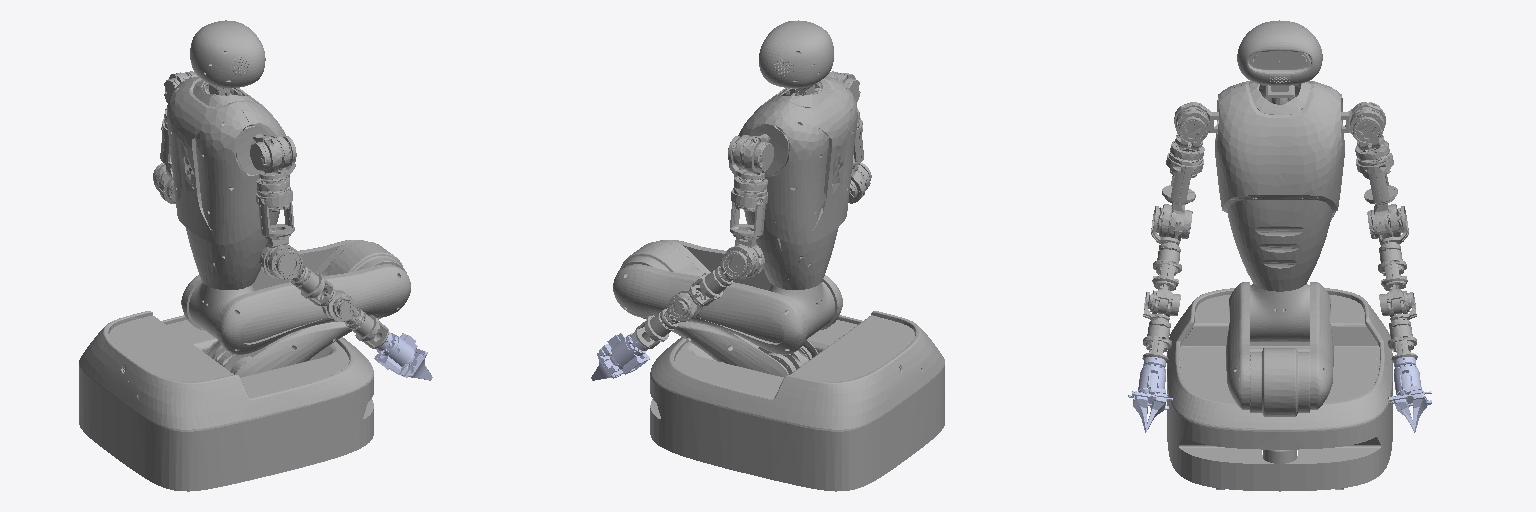
--- Render facts (derived) ---
Views: 3 orthographic renders of the robot side by side, from view 1: azimuth 30°, elevation 25°; view 2: azimuth 150°, elevation 25°; view 3: azimuth 270°, elevation 25°.
Model ymbot_d_description with 34 links and 33 joints (20 revolute, 13 fixed), rooted at base_footprint_link, posed every joint at zero.
Links seen in each view (by area): view 1: base_link, Body_Link4, Body_Link2, Body_Link1, Neck_Link2, Right_Arm_Link3, Right_Arm_Link8, Body_Link3, Right_Arm_Link5, Right_Arm_Link1, Left_Arm_Link3, Right_Arm_Link7; view 2: base_link, Body_Link4, Body_Link2, Body_Link1, Neck_Link2, Left_Arm_Link3, Left_Arm_Link8, Body_Link3, Left_Arm_Link5, Left_Arm_Link1, Right_Arm_Link3, Left_Arm_Link7; view 3: base_link, Body_Link4, Body_Link2, Neck_Link2, Body_Link1, Body_Link3, Left_Arm_Link3, Right_Arm_Link3, Right_Arm_Link5, Left_Arm_Link5, Right_Arm_Link8, Left_Arm_Link8 (+6 smaller).
Link boxes in pixels (x1,y1,x2,y2): base_link: (79,311,373,491); Body_Link4: (167,77,289,289); Body_Link2: (181,240,410,354); Body_Link1: (206,240,406,377); Neck_Link2: (190,20,265,90); Right_Arm_Link3: (256,173,299,279); Right_Arm_Link8: (374,332,432,380); Body_Link3: (189,282,254,338); Right_Arm_Link5: (290,266,354,321); Right_Arm_Link1: (249,133,291,173); Left_Arm_Link3: (154,108,175,203); Right_Arm_Link7: (345,308,388,348); base_link: (650,311,944,491); Body_Link4: (734,76,857,289); Body_Link2: (613,240,842,354); Body_Link1: (617,240,817,376); Neck_Link2: (759,20,833,90); Left_Arm_Link3: (725,173,767,279); Left_Arm_Link8: (591,332,649,380); Body_Link3: (770,282,834,339); Left_Arm_Link5: (669,266,732,321); Left_Arm_Link1: (732,133,774,172); Right_Arm_Link3: (848,108,870,203); Left_Arm_Link7: (635,308,678,348); base_link: (1167,288,1392,491); Body_Link4: (1215,81,1344,291); Body_Link2: (1226,282,1333,409); Neck_Link2: (1237,20,1322,85); Body_Link1: (1250,348,1309,416); Body_Link3: (1250,284,1309,341); Left_Arm_Link3: (1355,141,1403,241); Right_Arm_Link3: (1156,141,1204,240); Right_Arm_Link5: (1148,241,1181,316); Left_Arm_Link5: (1378,241,1411,316); Right_Arm_Link8: (1128,357,1172,432); Left_Arm_Link8: (1388,357,1431,432).
Bounding box of the posed robot: 0.7653 × 0.7153 × 1.07 m (x, y, z).
33 mesh visuals loaded from 33 distinct referenced files (33 binary STL).

robot.urdf — ymbot_d_description:
<?xml version="1.0" encoding="utf-8"?>
<!-- This URDF was automatically created by SolidWorks to URDF Exporter! Originally created by Stephen Brawner ([email redacted]) 
     Commit Version: 1.6.0-4-g7f85cfe  Build Version: 1.6.7995.38578
     For more information, please see http://wiki.ros.org/sw_urdf_exporter -->
<robot
  name="ymbot_d_description">


  <link name="base_footprint_link" />
  <joint name="base_footprint_joint" type="fixed">
    <parent link="base_footprint_link" />
    <child link="base_link" />
    <origin xyz="0 0 0" rpy="0 0 0"/>
  </joint>



  <link
    name="base_link">
    <inertial>
      <origin
        xyz="-0.14091401 0.00600638 0.10951765"
        rpy="0 0 0" />
      <mass
        value="32.79998065" />
      <inertia
        ixx="0.55932667"
        ixy="0.01801602"
        ixz="0.04711075"
        iyy="0.69142971"
        iyz="-0.01485230"
        izz="1.11612558" />
    </inertial>
    <visual>
      <origin
        xyz="0 0 0"
        rpy="0 0 0" />
      <geometry>
        <mesh
          filename="package://ymbot_d_description/meshes/base_link.STL" />
      </geometry>
      <material
        name="">
        <color
          rgba="0.698039215686274 0.698039215686274 0.698039215686274 1" />
      </material>
    </visual>
    <collision>
      <origin
        xyz="0 0 0"
        rpy="0 0 0" />
      <geometry>
        <mesh
          filename="package://ymbot_d_description/meshes/base_link.STL" />
      </geometry>
    </collision>
  </link>
  <link
    name="Body_Link1">
    <inertial>
      <origin
        xyz="0.17406139 0.08135675 -0.00411365"
        rpy="0 0 0" />
      <mass
        value="8.92330142" />
      <inertia
        ixx="0.06662447"
        ixy="-0.10947125"
        ixz="-0.00006991"
        iyy="0.25042266"
        iyz="-0.00003952"
        izz="0.30271848" />
    </inertial>
    <visual>
      <origin
        xyz="0 0 0"
        rpy="0 0 0" />
      <geometry>
        <mesh
          filename="package://ymbot_d_description/meshes/Body_Link1.STL" />
      </geometry>
      <material
        name="">
        <color
          rgba="0.698039215686274 0.698039215686274 0.698039215686274 1" />
      </material>
    </visual>
    <collision>
      <origin
        xyz="0 0 0"
        rpy="0 0 0" />
      <geometry>
        <mesh
          filename="package://ymbot_d_description/meshes/Body_Link1.STL" />
          <!-- <cylinder radius="0.25" length="0.516" />  -->
      </geometry>
      
    </collision>
  </link>
  <joint
    name="Body_Joint1"
    type="revolute">
    <origin
      xyz="0 0 0.148"
      rpy="1.5708 0 0" />
    <parent
      link="base_link" />
    <child
      link="Body_Link1" />
    <axis
      xyz="0 0 1" />
    <limit
      lower="-0.03"
      upper="1.57"
      effort="100"
      velocity="1" />
    <dynamics
      damping="0.1"
      friction="0.01" />
  </joint>
  <link
    name="Body_Link2">
    <inertial>
      <origin
        xyz="-0.20532119 0.00564049 0.00205188"
        rpy="0 0 0" />
      <mass
        value="4.92068840" />
      <inertia
        ixx="0.04567453"
        ixy="0.00019219"
        ixz="-0.00159375"
        iyy="0.15913741"
        iyz="0.00001127"
        izz="0.12927908" />
    </inertial>
    <visual>
      <origin
        xyz="0 0 0"
        rpy="0 0 0" />
      <geometry>
        <mesh
          filename="package://ymbot_d_description/meshes/Body_Link2.STL" />
      </geometry>
      <material
        name="">
        <color
          rgba="0.698039215686274 0.698039215686274 0.698039215686274 1" />
      </material>
    </visual>
    <collision>
      <origin
        xyz="0 0 0"
        rpy="0 0 0" />
      <geometry>
        <mesh
          filename="package://ymbot_d_description/meshes/Body_Link2.STL" />
      </geometry>
    </collision>
  </link>
  <joint
    name="Body_Joint2"
    type="revolute">
    <origin
      xyz="0.3444 0.16059 0"
      rpy="0 0 0" />
    <parent
      link="Body_Link1" />
    <child
      link="Body_Link2" />
    <axis
      xyz="0 0 -1" />
    <limit
      lower="-0.03"
      upper="3.14"
      effort="100"
      velocity="1" />
    <dynamics
      damping="0.1"
      friction="0.01" />
  </joint>
  <link
    name="Body_Link3">
    <inertial>
      <origin
        xyz="0.00036942 0.00547998 0.00246864"
        rpy="0 0 0" />
      <mass
        value="2.72097315" />
      <inertia
        ixx="0.00437646"
        ixy="0.00000189"
        ixz="0.00000250"
        iyy="0.00375099"
        iyz="0.00003679"
        izz="0.00468512" />
    </inertial>
    <visual>
      <origin
        xyz="0 0 0"
        rpy="0 0 0" />
      <geometry>
        <mesh
          filename="package://ymbot_d_description/meshes/Body_Link3.STL" />
      </geometry>
      <material
        name="">
        <color
          rgba="0.698039215686274 0.698039215686274 0.698039215686274 1" />
      </material>
    </visual>
    <collision>
      <origin
        xyz="0 0 0"
        rpy="0 0 0" />
      <geometry>
        <mesh
          filename="package://ymbot_d_description/meshes/Body_Link3.STL" />
      </geometry>
    </collision>
  </link>
  <joint
    name="Body_Joint3"
    type="revolute">
    <origin
      xyz="-0.38 0 0"
      rpy="0 0 0" />
    <parent
      link="Body_Link2" />
    <child
      link="Body_Link3" />
    <axis
      xyz="0 0 -1" />
    <limit
      lower="-3.14"
      upper="0.3"
      effort="100"
      velocity="1" />
    <dynamics
      damping="0.1"
      friction="0.01" />
  </joint>
  <link
    name="Body_Link4">
    <inertial>
      <origin
        xyz="-0.00529135 0.00000000 -0.24089996"
        rpy="0 0 0" />
      <mass
        value="12.00785320" />
      <inertia
        ixx="0.30643191"
        ixy="-0.00000066"
        ixz="-0.00806740"
        iyy="0.26915841"
        iyz="0.00001358"
        izz="0.07484553" />
    </inertial>
    <visual>
      <origin
        xyz="0 0 0"
        rpy="0 0 0" />
      <geometry>
        <mesh
          filename="package://ymbot_d_description/meshes/Body_Link4.STL" />
      </geometry>
      <material
        name="">
        <color
          rgba="0.698039215686274 0.698039215686274 0.698039215686274 1" />
      </material>
    </visual>
    <collision>
      <origin
        xyz="0 0 0"
        rpy="0 0 0" />
      <geometry>
        <mesh
          filename="package://ymbot_d_description/meshes/Body_Link4.STL" />
      </geometry>
    </collision>
  </link>
  <joint
    name="Body_Joint4"
    type="revolute">
    <origin
      xyz="0 0.0875 0"
      rpy="1.5708 0 0" />
    <parent
      link="Body_Link3" />
    <child
      link="Body_Link4" />
    <axis
      xyz="0 0 -1" />
    <limit
      lower="-3.14"
      upper="3.14"
      effort="100"
      velocity="1" />
    <dynamics
      damping="0.1"
      friction="0.01" />
  </joint>
  <link
    name="Neck_Link1">
    <inertial>
      <origin
        xyz="0.00000000 -0.00512348 -0.02439872"
        rpy="0 0 0" />
      <mass
        value="0.22540157" />
      <inertia
        ixx="0.00006040"
        ixy="0.00000000"
        ixz="0.00000000"
        iyy="0.00007221"
        iyz="-0.00001580"
        izz="0.00004510" />
    </inertial>
    <visual>
      <origin
        xyz="0 0 0"
        rpy="0 0 0" />
      <geometry>
        <mesh
          filename="package://ymbot_d_description/meshes/Neck_Link1.STL" />
      </geometry>
      <material
        name="">
        <color
          rgba="0.698039215686274 0.698039215686274 0.698039215686274 1" />
      </material>
    </visual>
    <collision>
      <origin
        xyz="0 0 0"
        rpy="0 0 0" />
      <geometry>
        <mesh
          filename="package://ymbot_d_description/meshes/Neck_Link1.STL" />
      </geometry>
    </collision>
  </link>
  <joint
    name="Neck_Joint1"
    type="revolute">
    <origin
      xyz="-0.023818 0 -0.483"
      rpy="0 0 0" />
    <parent
      link="Body_Link4" />
    <child
      link="Neck_Link1" />
    <axis
      xyz="0 0 -1" />
    <limit
      lower="-3.14"
      upper="3.14"
      effort="100"
      velocity="1" />
    <dynamics
      damping="0.1"
      friction="0.01" />
  </joint>
  <link
    name="Neck_Link2">
    <inertial>
      <origin
        xyz="0.02917938 -0.06097262 0.00412823"
        rpy="0 0 0" />
      <mass
        value="0.91507491" />
      <inertia
        ixx="0.00331580"
        ixy="0.00014323"
        ixz="-0.00005205"
        iyy="0.00368907"
        iyz="0.00004590"
        izz="0.00235088" />
    </inertial>
    <visual>
      <origin
        xyz="0 0 0"
        rpy="0 0 0" />
      <geometry>
        <mesh
          filename="package://ymbot_d_description/meshes/Neck_Link2.STL" />
      </geometry>
      <material
        name="">
        <color
          rgba="0.698039215686274 0.698039215686274 0.698039215686274 1" />
      </material>
    </visual>
    <collision>
      <origin
        xyz="0 0 0"
        rpy="0 0 0" />
      <geometry>
        <mesh
          filename="package://ymbot_d_description/meshes/Neck_Link2.STL" />
      </geometry>
    </collision>
  </link>
  <joint
    name="Neck_Joint2"
    type="revolute">
    <origin
      xyz="0 0 -0.037"
      rpy="1.5708 0 0" />
    <parent
      link="Neck_Link1" />
    <child
      link="Neck_Link2" />
    <axis
      xyz="0 0 -1" />
    <limit
      lower="-0.6"
      upper="0.6"
      effort="100"
      velocity="1" />
    <dynamics
      damping="0.1"
      friction="0.01" />
  </joint>
  <link
    name="Left_Arm_Link1">
    <inertial>
      <origin
        xyz="0.00250777 0.00013622 0.08139142"
        rpy="0 0 0" />
      <mass
        value="0.8389732" />
      <inertia
        ixx="0.00112299"
        ixy="0.00000208"
        ixz="-0.00001642"
        iyy="0.00105708"
        iyz="-0.00000003"
        izz="0.00072270" />
    </inertial>
    <visual>
      <origin
        xyz="0 0 0"
        rpy="0 0 0" />
      <geometry>
        <mesh
          filename="package://ymbot_d_description/meshes/Left_Arm_Link1.STL" />
      </geometry>
      <material
        name="">
        <color
          rgba="0.698039215686274 0.698039215686274 0.698039215686274 1" />
      </material>
    </visual>
    <collision>
      <origin
        xyz="0 0 0"
        rpy="0 0 0" />
      <geometry>
        <mesh
          filename="package://ymbot_d_description/meshes/Left_Arm_Link1.STL" />
      </geometry>
    </collision>
  </link>
  <joint
    name="Left_Arm_Joint1"
    type="revolute">
    <origin
      xyz="0 -0.116 -0.408"
      rpy="1.5708 0 0" />
    <parent
      link="Body_Link4" />
    <child
      link="Left_Arm_Link1" />
    <axis
      xyz="0 0 1" />
    <limit
      lower="-3.14"
      upper="3.14"
      effort="100"
      velocity="1" />
    <dynamics
      damping="0.1"
      friction="0.01" />
  </joint>
  <link
    name="Left_Arm_Link2">
    <inertial>
      <origin
        xyz="-0.00360533 0.01377851 0.00860046"
        rpy="0 0 0" />
      <mass
        value="0.35172260" />
      <inertia
        ixx="0.00085083"
        ixy="-0.00003671"
        ixz="-0.00001366"
        iyy="0.00087099"
        iyz="0.00000900"
        izz="0.00074178" />
    </inertial>
    <visual>
      <origin
        xyz="0 0 0"
        rpy="0 0 0" />
      <geometry>
        <mesh
          filename="package://ymbot_d_description/meshes/Left_Arm_Link2.STL" />
      </geometry>
      <material
        name="">
        <color
          rgba="0.698039215686274 0.698039215686274 0.698039215686274 1" />
      </material>
    </visual>
    <collision>
      <origin
        xyz="0 0 0"
        rpy="0 0 0" />
      <geometry>
        <mesh
          filename="package://ymbot_d_description/meshes/Left_Arm_Link2.STL" />
      </geometry>
    </collision>
  </link>
  <joint
    name="Left_Arm_Joint2"
    type="revolute">
    <origin
      xyz="0 0 0.0885"
      rpy="1.5708 1.3963 1.5708" />
    <parent
      link="Left_Arm_Link1" />
    <child
      link="Left_Arm_Link2" />
    <axis
      xyz="0 0 1" />
    <limit
      lower="-0.03"
      upper="1.4"
      effort="100"
      velocity="1" />
    <dynamics
      damping="0.1"
      friction="0.01" />
  </joint>
  <link
    name="Left_Arm_Link3">
    <inertial>
      <origin
        xyz="-0.00109988 -0.00009194 -0.11449273"
        rpy="0 0 0" />
      <mass
        value="2.04717111" />
      <inertia
        ixx="0.01506238"
        ixy="0.00000104"
        ixz="-0.00018517"
        iyy="0.01494959"
        iyz="-0.00006245"
        izz="0.00251701" />
    </inertial>
    <visual>
      <origin
        xyz="0 0 0"
        rpy="0 0 0" />
      <geometry>
        <mesh
          filename="package://ymbot_d_description/meshes/Left_Arm_Link3.STL" />
      </geometry>
      <material
        name="">
        <color
          rgba="0.698039215686274 0.698039215686274 0.698039215686274 1" />
      </material>
    </visual>
    <collision>
      <origin
        xyz="0 0 0"
        rpy="0 0 0" />
      <geometry>
        <mesh
          filename="package://ymbot_d_description/meshes/Left_Arm_Link3.STL" />
      </geometry>
    </collision>
  </link>
  <joint
    name="Left_Arm_Joint3"
    type="revolute">
    <origin
      xyz="0 0.0645 -0.0025"
      rpy="1.5708 0 0" />
    <parent
      link="Left_Arm_Link2" />
    <child
      link="Left_Arm_Link3" />
    <axis
      xyz="0 0 -1" />
    <limit
      lower="-3.14"
      upper="3.14"
      effort="100"
      velocity="1" />
    <dynamics
      damping="0.1"
      friction="0.01" />
  </joint>
  <link
    name="Left_Arm_Link4">
    <inertial>
      <origin
        xyz="0.02425796 0.00000000 -0.03000956"
        rpy="0 0 0" />
      <mass
        value="0.05523925" />
      <inertia
        ixx="0.00003263"
        ixy="0.00000000"
        ixz="-0.00001716"
        iyy="0.00005765"
        iyz="0.00000000"
        izz="0.00005525" />
    </inertial>
    <visual>
      <origin
        xyz="0 0 0"
        rpy="0 0 0" />
      <geometry>
        <mesh
          filename="package://ymbot_d_description/meshes/Left_Arm_Link4.STL" />
      </geometry>
      <material
        name="">
        <color
          rgba="0.698039215686274 0.698039215686274 0.698039215686274 1" />
      </material>
    </visual>
    <collision>
      <origin
        xyz="0 0 0"
        rpy="0 0 0" />
      <geometry>
        <mesh
          filename="package://ymbot_d_description/meshes/Left_Arm_Link4.STL" />
      </geometry>
    </collision>
  </link>
  <joint
    name="Left_Arm_Joint4"
    type="revolute">
    <origin
      xyz="0 0 -0.199"
      rpy="1.5708 0.7854 1.5708" />
    <parent
      link="Left_Arm_Link3" />
    <child
      link="Left_Arm_Link4" />
    <axis
      xyz="0 0 -1" />
    <limit
      lower="-0.6"
      upper="0.6"
      effort="100"
      velocity="1" />
    <dynamics
      damping="0.1"
      friction="0.01" />
  </joint>
  <link
    name="Left_Arm_Link5">
    <inertial>
      <origin
        xyz="0.00097540 -0.00033125 0.08277163"
        rpy="0 0 0" />
      <mass
        value="1.43552815" />
      <inertia
        ixx="0.00511517"
        ixy="-0.00000035"
        ixz="-0.00006312"
        iyy="0.00513184"
        iyz="0.00001747"
        izz="0.00101365" />
    </inertial>
    <visual>
      <origin
        xyz="0 0 0"
        rpy="0 0 0" />
      <geometry>
        <mesh
          filename="package://ymbot_d_description/meshes/Left_Arm_Link5.STL" />
      </geometry>
      <material
        name="">
        <color
          rgba="0.698039215686274 0.698039215686274 0.698039215686274 1" />
      </material>
    </visual>
    <collision>
      <origin
        xyz="0 0 0"
        rpy="0 0 0" />
      <geometry>
        <mesh
          filename="package://ymbot_d_description/meshes/Left_Arm_Link5.STL" />
      </geometry>
    </collision>
  </link>
  <joint
    name="Left_Arm_Joint5"
    type="revolute">
    <origin
      xyz="0.063 0 0"
      rpy="0 1.5708 0" />
    <parent
      link="Left_Arm_Link4" />
    <child
      link="Left_Arm_Link5" />
    <axis
      xyz="0 0 1" />
    <limit
      lower="-3.14"
      upper="3.14"
      effort="100"
      velocity="1" />
    <dynamics
      damping="0.1"
      friction="0.01" />
  </joint>
  <link
    name="Left_Arm_Link6">
    <inertial>
      <origin
        xyz="-0.02473921 0.00000000 0.02411396"
        rpy="0 0 0" />
      <mass
        value="0.02737117" />
      <inertia
        ixx="0.00001190"
        ixy="0.00000000"
        ixz="-0.00000524"
        iyy="0.00001805"
        iyz="0.00000000"
        izz="0.00001269" />
    </inertial>
    <visual>
      <origin
        xyz="0 0 0"
        rpy="0 0 0" />
      <geometry>
        <mesh
          filename="package://ymbot_d_description/meshes/Left_Arm_Link6.STL" />
      </geometry>
      <material
        name="">
        <color
          rgba="0.698039215686274 0.698039215686274 0.698039215686274 1" />
      </material>
    </visual>
    <collision>
      <origin
        xyz="0 0 0"
        rpy="0 0 0" />
      <geometry>
        <mesh
          filename="package://ymbot_d_description/meshes/Left_Arm_Link6.STL" />
      </geometry>
    </collision>
  </link>
  <joint
    name="Left_Arm_Joint6"
    type="revolute">
    <origin
      xyz="0 0 0.1407"
      rpy="0 1.5708 0" />
    <parent
      link="Left_Arm_Link5" />
    <child
      link="Left_Arm_Link6" />
    <axis
      xyz="0 0 1" />
    <limit
      lower="-1.4"
      upper="1.4"
      effort="100"
      velocity="1" />
    <dynamics
      damping="0.1"
      friction="0.01" />
  </joint>
  <link
    name="Left_Arm_Link7">
    <inertial>
      <origin
        xyz="-0.00037657 -0.00065265 -0.03295542"
        rpy="0 0 0" />
      <mass
        value="0.77161209" />
      <inertia
        ixx="0.00098580"
        ixy="0.00000033"
        ixz="0.00000274"
        iyy="0.00096065"
        iyz="0.00003442"
        izz="0.00054062" />
    </inertial>
    <visual>
      <origin
        xyz="0 0 0"
        rpy="0 0 0" />
      <geometry>
        <mesh
          filename="package://ymbot_d_description/meshes/Left_Arm_Link7.STL" />
      </geometry>
      <material
        name="">
        <color
          rgba="0.698039215686274 0.698039215686274 0.698039215686274 1" />
      </material>
    </visual>
    <collision>
      <origin
        xyz="0 0 0"
        rpy="0 0 0" />
      <geometry>
        <mesh
          filename="package://ymbot_d_description/meshes/Left_Arm_Link7.STL" />
      </geometry>
    </collision>
  </link>
  <joint
    name="Left_Arm_Joint7"
    type="revolute">
    <origin
      xyz="-0.051 0 0"
      rpy="0 1.5708 0" />
    <parent
      link="Left_Arm_Link6" />
    <child
      link="Left_Arm_Link7" />
    <axis
      xyz="0 0 -1" />
    <limit
      lower="-3.14"
      upper="3.14"
      effort="100"
      velocity="1" />
    <dynamics
      damping="0.1"
      friction="0.01" />
  </joint>

   <link
    name="Left_Arm_Link8">
    <inertial>
      <origin
        xyz="0.00177279 0.00011701 -0.00422743"
        rpy="0 0 0" />
      <mass
        value="0.30096411" />
      <inertia
        ixx="0.00020406"
        ixy="0.00000014"
        ixz="0.00001669"
        iyy="0.00023568"
        iyz="0.00000035"
        izz="0.00019387" />
    </inertial>
    <visual>
      <origin
        xyz="0 0 0"
        rpy="0 0 0" />
      <geometry>
        <mesh
          filename="package://ymbot_d_description/meshes/Left_Arm_Link8.STL" />
      </geometry>
      <material
        name="">
        <color
          rgba="0.792156862745098 0.819607843137255 0.933333333333333 1" />
      </material>
    </visual>
    <collision>
      <origin
        xyz="0 0 0"
        rpy="0 0 0" />
      <geometry>
        <mesh
          filename="package://ymbot_d_description/meshes/Left_Arm_Link8.STL" />
      </geometry>
    </collision>
  </link>
  <joint
    name="Left_Arm_Joint8"
    type="fixed">
    <origin
      xyz="0 0 -0.1267"
      rpy="0.0 1.5708 1.5708" />
    <parent
      link="Left_Arm_Link7" />
    <child
      link="Left_Arm_Link8" />
    <axis
      xyz="0 0 0" />
  </joint>
  <link
    name="Right_Arm_Link1">
    <inertial>
      <origin
        xyz="0.00250777 -0.00013622 -0.08139142"
        rpy="0 0 0" />
      <mass
        value="0.83897327" />
      <inertia
        ixx="0.00112299"
        ixy="-0.00000208"
        ixz="0.00001642"
        iyy="0.00105708"
        iyz="-0.00000003"
        izz="0.00072270" />
    </inertial>
    <visual>
      <origin
        xyz="0 0 0"
        rpy="0 0 0" />
      <geometry>
        <mesh
          filename="package://ymbot_d_description/meshes/Right_Arm_Link1.STL" />
      </geometry>
      <material
        name="">
        <color
          rgba="0.698039215686274 0.698039215686274 0.698039215686274 1" />
      </material>
    </visual>
    <collision>
      <origin
        xyz="0 0 0"
        rpy="0 0 0" />
      <geometry>
        <mesh
          filename="package://ymbot_d_description/meshes/Right_Arm_Link1.STL" />
      </geometry>
    </collision>
  </link>
  <joint
    name="Right_Arm_Joint1"
    type="revolute">
    <origin
      xyz="0 0.116 -0.408"
      rpy="1.5708 0 0" />
    <parent
      link="Body_Link4" />
    <child
      link="Right_Arm_Link1" />
    <axis
      xyz="0 0 -1" />
    <limit
      lower="-3.14"
      upper="3.14"
      effort="100"
      velocity="1" />
    <dynamics
      damping="0.1"
      friction="0.01" />
  </joint>
  <link
    name="Right_Arm_Link2">
    <inertial>
      <origin
        xyz="0.00281846 0.01734375 0.01244298"
        rpy="0 0 0" />
      <mass
        value="0.22504825" /> 
      <inertia
        ixx="0.00050540"
        ixy="0.00002055"
        ixz="0.00000924"
        iyy="0.00049137"
        iyz="0.00000977"
        izz="0.00043005" />
    </inertial>
    <visual>
      <origin
        xyz="0 0 0"
        rpy="0 0 0" />
      <geometry>
        <mesh
          filename="package://ymbot_d_description/meshes/Right_Arm_Link2.STL" />
      </geometry>
      <material
        name="">
        <color
          rgba="0.698039215686274 0.698039215686274 0.698039215686274 1" />
      </material>
    </visual>
    <collision>
      <origin
        xyz="0 0 0"
        rpy="0 0 0" />
      <geometry>
        <mesh
          filename="package://ymbot_d_description/meshes/Right_Arm_Link2.STL" />
      </geometry>
    </collision>
  </link>
  <joint
    name="Right_Arm_Joint2"
    type="revolute">
    <origin
      xyz="0 0 -0.0885"
      rpy="-1.5708 1.3963 -1.5708" />
    <parent
      link="Right_Arm_Link1" />
    <child
      link="Right_Arm_Link2" />
    <axis
      xyz="0 0 1" />
    <limit
      lower="-1.4"
      upper="0.2"
      effort="100"
      velocity="1" />
    <dynamics
      damping="0.1"
      friction="0.01" />
  </joint>
  <link
    name="Right_Arm_Link3">
    <inertial>
      <origin
        xyz="0.00109868 -0.00020354 -0.11437827"
        rpy="0 0 0" />
      <mass
        value="2.04713159" />
      <inertia
        ixx="0.01502315"
        ixy="-0.00000282"
        ixz="0.00018887"
        iyy="0.01491044"
        iyz="-0.00004793"
        izz="0.00251687" />
    </inertial>
    <visual>
      <origin
        xyz="0 0 0"
        rpy="0 0 0" />
      <geometry>
        <mesh
          filename="package://ymbot_d_description/meshes/Right_Arm_Link3.STL" />
      </geometry>
      <material
        name="">
        <color
          rgba="0.698039215686274 0.698039215686274 0.698039215686274 1" />
      </material>
    </visual>
    <collision>
      <origin
        xyz="0 0 0"
        rpy="0 0 0" />
      <geometry>
        <mesh
          filename="package://ymbot_d_description/meshes/Right_Arm_Link3.STL" />
      </geometry>
    </collision>
  </link>
  <joint
    name="Right_Arm_Joint3"
    type="revolute">
    <origin
      xyz="0 0.0645 -0.0025"
      rpy="1.5708 0 0" />
    <parent
      link="Right_Arm_Link2" />
    <child
      link="Right_Arm_Link3" />
    <axis
      xyz="0 0 -1" />
    <limit
      lower="-3.14"
      upper="3.14"
      effort="100"
      velocity="1" />
    <dynamics
      damping="0.1"
      friction="0.01" />
  </joint>
  <link
    name="Right_Arm_Link4">
    <inertial>
      <origin
        xyz="0.02425796 0.00000000 0.03000956"
        rpy="0 0 0" />
      <mass
        value="0.05523925" />
      <inertia
        ixx="0.00003263"
        ixy="0.00000000"
        ixz="0.00001716"
        iyy="0.00005765"
        iyz="0.00000000"
        izz="0.00005525" />
    </inertial>
    <visual>
      <origin
        xyz="0 0 0"
        rpy="0 0 0" />
      <geometry>
        <mesh
          filename="package://ymbot_d_description/meshes/Right_Arm_Link4.STL" />
      </geometry>
      <material
        name="">
        <color
          rgba="0.698039215686274 0.698039215686274 0.698039215686274 1" />
      </material>
    </visual>
    <collision>
      <origin
        xyz="0 0 0"
        rpy="0 0 0" />
      <geometry>
        <mesh
          filename="package://ymbot_d_description/meshes/Right_Arm_Link4.STL" />
      </geometry>
    </collision>
  </link>
  <joint
    name="Right_Arm_Joint4"
    type="revolute">
    <origin
      xyz="0 0 -0.199"
      rpy="1.5708 0.7854 1.5708" />
    <parent
      link="Right_Arm_Link3" />
    <child
      link="Right_Arm_Link4" />
    <axis
      xyz="0 0 1" />
    <limit
      lower="-0.6"
      upper="0.6"
      effort="100"
      velocity="1" />
    <dynamics
      damping="0.1"
      friction="0.01" />
  </joint>
  <link
    name="Right_Arm_Link5">
    <inertial>
      <origin
        xyz="-0.00101229 -0.00026130 0.08279144"
        rpy="0 0 0" />
      <mass
        value="1.43553166" />
      <inertia
        ixx="0.00511851"
        ixy="-0.00000176"
        ixz="0.00006113"
        iyy="0.00513524"
        iyz="0.00001402"
        izz="0.00101338" />
    </inertial>
    <visual>
      <origin
        xyz="0 0 0"
        rpy="0 0 0" />
      <geometry>
        <mesh
          filename="package://ymbot_d_description/meshes/Right_Arm_Link5.STL" />
      </geometry>
      <material
        name="">
        <color
          rgba="0.698039215686274 0.698039215686274 0.698039215686274 1" />
      </material>
    </visual>
    <collision>
      <origin
        xyz="0 0 0"
        rpy="0 0 0" />
      <geometry>
        <mesh
          filename="package://ymbot_d_description/meshes/Right_Arm_Link5.STL" />
      </geometry>
    </collision>
  </link>
  <joint
    name="Right_Arm_Joint5"
    type="revolute">
    <origin
      xyz="0.063 0 0"
      rpy="-1.8104E-05 1.5708 -1.082E-05" />
    <parent
      link="Right_Arm_Link4" />
    <child
      link="Right_Arm_Link5" />
    <axis
      xyz="0 0 1" />
    <limit
      lower="-3.14"
      upper="3.14"
      effort="100"
      velocity="1" />
    <dynamics
      damping="0.1"
      friction="0.01" />
  </joint>
  <link
    name="Right_Arm_Link6">
    <inertial>
      <origin
        xyz="-0.02473921 0.00000000 -0.02411396"
        rpy="0 0 0" />
      <mass
        value="0.02737117" />
      <inertia
        ixx="0.00001190"
        ixy="0.00000000"
        ixz="0.00000524"
        iyy="0.00001805"
        iyz="0.00000000"
        izz="0.00001269" />
    </inertial>
    <visual>
      <origin
        xyz="0 0 0"
        rpy="0 0 0" />
      <geometry>
        <mesh
          filename="package://ymbot_d_description/meshes/Right_Arm_Link6.STL" />
      </geometry>
      <material
        name="">
        <color
          rgba="0.698039215686274 0.698039215686274 0.698039215686274 1" />
      </material>
    </visual>
    <collision>
      <origin
        xyz="0 0 0"
        rpy="0 0 0" />
      <geometry>
        <mesh
          filename="package://ymbot_d_description/meshes/Right_Arm_Link6.STL" />
      </geometry>
    </collision>
  </link>
  <joint
    name="Right_Arm_Joint6"
    type="revolute">
    <origin
      xyz="0 0 0.1407"
      rpy="-3.1416 1.5708 3.1416" />
    <parent
      link="Right_Arm_Link5" />
    <child
      link="Right_Arm_Link6" />
    <axis
      xyz="0 0 -1" />
    <limit
      lower="-1.4"
      upper="1.4"
      effort="100"
      velocity="1" />
    <dynamics
      damping="0.1"
      friction="0.01" />
  </joint>
  <link
    name="Right_Arm_Link7">
    <inertial>
      <origin
        xyz="0.00007951 -0.00065301 -0.03295487"
        rpy="0 0 0" />
      <mass
        value="0.77161771" /> 
      <inertia
        ixx="0.00098583"
        ixy="0.00000132"
        ixz="-0.00000329"
        iyy="0.00096078"
        iyz="0.00003443"
        izz="0.00054073" />
    </inertial>
    <visual>
      <origin
        xyz="0 0 0"
        rpy="0 0 0" />
      <geometry>
        <mesh
          filename="package://ymbot_d_description/meshes/Right_Arm_Link7.STL" />
      </geometry>
      <material
        name="">
        <color
          rgba="0.698039215686274 0.698039215686274 0.698039215686274 1" />
      </material>
    </visual>
    <collision>
      <origin
        xyz="0 0 0"
        rpy="0 0 0" />
      <geometry>
        <mesh
          filename="package://ymbot_d_description/meshes/Right_Arm_Link7.STL" />
      </geometry>
    </collision>
  </link>
  <joint
    name="Right_Arm_Joint7"
    type="revolute">
    <origin
      xyz="-0.051 0 0"
      rpy="0 1.5708 0" />
    <parent
      link="Right_Arm_Link6" />
    <child
      link="Right_Arm_Link7" />
    <axis
      xyz="0 0 -1" />
    <limit
      lower="-3.14"
      upper="3.14"
      effort="100"
      velocity="1" />
    <dynamics
      damping="0.1"
      friction="0.01" />
  </joint>

    <link
    name="Right_Arm_Link8">
    <inertial>
      <origin
        xyz="0.00677279 0.00011701 -0.00422743"
        rpy="0 0 0" />
      <mass
        value="0.30096411" />
      <inertia
        ixx="0.00020406"
        ixy="0.00000014"
        ixz="0.00001669"
        iyy="0.00023568"
        iyz="0.00000035"
        izz="0.00019387" />
    </inertial>
    <visual>
      <origin
        xyz="0 0 0"
        rpy="0 0 0" />
      <geometry>
        <mesh
          filename="package://ymbot_d_description/meshes/Right_Arm_Link8.STL" />
      </geometry>
      <material
        name="">
        <color
          rgba="0.79216 0.81961 0.93333 1" />
      </material>
    </visual>
    <collision>
      <origin
        xyz="0 0 0"
        rpy="0 0 0" />
      <geometry>
        <mesh
          filename="package://ymbot_d_description/meshes/Right_Arm_Link8.STL" />
      </geometry>
    </collision>
  </link>
  <joint
    name="Right_Arm_Joint8"
    type="fixed">
    <origin
      xyz="0 0 -0.1217"
      rpy="0.0 1.5708 1.5708" />
    <parent
      link="Right_Arm_Link7" />
    <child
      link="Right_Arm_Link8" />
    <axis
      xyz="0 0 0" />
  </joint>


  <link
    name="Driven_Wheel_Link1">
    <inertial>
      <origin
        xyz="0.00333454 0.00000000 -0.00827570"
        rpy="0 0 0" />
      <mass
        value="0.01478552" />
      <inertia
        ixx="0.00000464"
        ixy="0.00000000"
        ixz="0.00000090"
        iyy="0.00000441"
        iyz="0.00000000"
        izz="0.00000402" />
    </inertial>
    <visual>
      <origin
        xyz="0 0 0"
        rpy="0 0 0" />
      <geometry>
        <mesh
          filename="package://ymbot_d_description/meshes/Driven_Wheel_Link1.STL" />
      </geometry>
      <material
        name="">
        <color
          rgba="0.792156862745098 0.819607843137255 0.933333333333333 1" />
      </material>
    </visual>
    <collision>
      <origin
        xyz="0 0 0"
        rpy="0 0 0" />
      <geometry>
        <mesh
          filename="package://ymbot_d_description/meshes/Driven_Wheel_Link1.STL" />
      </geometry>
    </collision>
  </link>
  <joint
    name="Driven_Wheel_Joint1"
    type="fixed">
    <origin
      xyz="0.215 0.14 0.041"
      rpy="0 0 0" />
    <parent
      link="base_link" />
    <child
      link="Driven_Wheel_Link1" />
    <axis
      xyz="0 0 -1" />
  </joint>
  <link
    name="Driven_Wheel_Link2">
    <inertial>
      <origin
        xyz="0.00000000 0.00000000 0.00000000"
        rpy="0 0 0" />
      <mass
        value="0.02947568" />
      <inertia
        ixx="0.00000426"
        ixy="0.00000000"
        ixz="0.00000000"
        iyy="0.00000426"
        iyz="0.00000000"
        izz="0.00000553" />
    </inertial>
    <visual>
      <origin
        xyz="0 0 0"
        rpy="0 0 0" />
      <geometry>
        <mesh
          filename="package://ymbot_d_description/meshes/Driven_Wheel_Link2.STL" />
      </geometry>
      <material
        name="">
        <color
          rgba="0.792156862745098 0.819607843137255 0.933333333333333 1" />
      </material>
    </visual>
    <collision>
      <origin
        xyz="0 0 0"
        rpy="0 0 0" />
      <geometry>
        <mesh
          filename="package://ymbot_d_description/meshes/Driven_Wheel_Link2.STL" />
      </geometry>
    </collision>
  </link>
  <joint
    name="Driven_Wheel_Joint2"
    type="fixed">
    <origin
      xyz="0.02 0 -0.039"
      rpy="1.5708 0 0" />
    <parent
      link="Driven_Wheel_Link1" />
    <child
      link="Driven_Wheel_Link2" />
    <axis
      xyz="0 0 1" />
  </joint>
  <link
    name="Driven_Wheel_Link3">
    <inertial>
      <origin
        xyz="0.00333454 0.00000000 -0.00827570"
        rpy="0 0 0" />
      <mass
        value="0.01478552" />
      <inertia
        ixx="0.00000464"
        ixy="0.00000000"
        ixz="0.00000090"
        iyy="0.00000441"
        iyz="0.00000000"
        izz="0.00000402" />
    </inertial>
    <visual>
      <origin
        xyz="0 0 0"
        rpy="0 0 0" />
      <geometry>
        <mesh
          filename="package://ymbot_d_description/meshes/Driven_Wheel_Link3.STL" />
      </geometry>
      <material
        name="">
        <color
          rgba="0.792156862745098 0.819607843137255 0.933333333333333 1" />
      </material>
    </visual>
    <collision>
      <origin
        xyz="0 0 0"
        rpy="0 0 0" />
      <geometry>
        <mesh
          filename="package://ymbot_d_description/meshes/Driven_Wheel_Link3.STL" />
      </geometry>
    </collision>
  </link>
  <joint
    name="Driven_Wheel_Joint3"
    type="fixed">
    <origin
      xyz="-0.275 0.14 0.041"
      rpy="0 0 0" />
    <parent
      link="base_link" />
    <child
      link="Driven_Wheel_Link3" />
    <axis
      xyz="0 0 -1" />
  </joint>
  <link
    name="Driven_Wheel_Link4">
    <inertial>
      <origin
        xyz="0.00000000 0.00000000 0.00000000"
        rpy="0 0 0" />
      <mass
        value="0.02947568" />
      <inertia
        ixx="0.00000426"
        ixy="0.00000000"
        ixz="0.00000000"
        iyy="0.00000426"
        iyz="0.00000000"
        izz="0.00000553" />
    </inertial>
    <visual>
      <origin
        xyz="0 0 0"
        rpy="0 0 0" />
      <geometry>
        <mesh
          filename="package://ymbot_d_description/meshes/Driven_Wheel_Link4.STL" />
      </geometry>
      <material
        name="">
        <color
          rgba="0.792156862745098 0.819607843137255 0.933333333333333 1" />
      </material>
    </visual>
    <collision>
      <origin
        xyz="0 0 0"
        rpy="0 0 0" />
      <geometry>
        <mesh
          filename="package://ymbot_d_description/meshes/Driven_Wheel_Link4.STL" />
      </geometry>
    </collision>
  </link>
  <joint
    name="Driven_Wheel_Joint4"
    type="fixed">
    <origin
      xyz="-0.02 0 -0.039"
      rpy="1.5708 0 0" />
    <parent
      link="Driven_Wheel_Link3" />
    <child
      link="Driven_Wheel_Link4" />
    <axis
      xyz="0 0 -1" />
  </joint>
  <link
    name="Driven_Wheel_Link5">
    <inertial>
      <origin
        xyz="0.00333454 0.00000000 -0.00827570"
        rpy="0 0 0" />
      <mass
        value="0.01478552" />
      <inertia
        ixx="0.00000464"
        ixy="0.00000000"
        ixz="0.00000090"
        iyy="0.00000441"
        iyz="0.00000000"
        izz="0.00000402" />
    </inertial>
    <visual>
      <origin
        xyz="0 0 0"
        rpy="0 0 0" />
      <geometry>
        <mesh
          filename="package://ymbot_d_description/meshes/Driven_Wheel_Link5.STL" />
      </geometry>
      <material
        name="">
        <color
          rgba="0.792156862745098 0.819607843137255 0.933333333333333 1" />
      </material>
    </visual>
    <collision>
      <origin
        xyz="0 0 0"
        rpy="0 0 0" />
      <geometry>
        <mesh
          filename="package://ymbot_d_description/meshes/Driven_Wheel_Link5.STL" />
      </geometry>
    </collision>
  </link>
  <joint
    name="Driven_Wheel_Joint5"
    type="fixed">
    <origin
      xyz="0.215 -0.14 0.039693"
      rpy="0 0 0" />
    <parent
      link="base_link" />
    <child
      link="Driven_Wheel_Link5" />
    <axis
      xyz="0 0 -1" />
  </joint>
  <link
    name="Driven_Wheel_Link6">
    <inertial>
      <origin
        xyz="0.00000000 0.00000000 0.00000000"
        rpy="0 0 0" />
      <mass
        value="0.02947568" />
      <inertia
        ixx="0.00000426"
        ixy="0.00000000"
        ixz="0.00000000"
        iyy="0.00000426"
        iyz="0.00000000"
        izz="0.00000553" />
    </inertial>
    <visual>
      <origin
        xyz="0 0 0"
        rpy="0 0 0" />
      <geometry>
        <mesh
          filename="package://ymbot_d_description/meshes/Driven_Wheel_Link6.STL" />
      </geometry>
      <material
        name="">
        <color
          rgba="0.792156862745098 0.819607843137255 0.933333333333333 1" />
      </material>
    </visual>
    <collision>
      <origin
        xyz="0 0 0"
        rpy="0 0 0" />
      <geometry>
        <mesh
          filename="package://ymbot_d_description/meshes/Driven_Wheel_Link6.STL" />
      </geometry>
    </collision>
  </link>
  <joint
    name="Driven_Wheel_Joint6"
    type="fixed">
    <origin
      xyz="0.02 0 -0.039"
      rpy="1.5708 0 0" />
    <parent
      link="Driven_Wheel_Link5" />
    <child
      link="Driven_Wheel_Link6" />
    <axis
      xyz="0 0 1" />
  </joint>
  <link
    name="Driven_Wheel_Link7">
    <inertial>
      <origin
        xyz="0.00333454 0.00000000 -0.00827570"
        rpy="0 0 0" />
      <mass
        value="0.01478552" />
      <inertia
        ixx="0.00000464"
        ixy="0.00000000"
        ixz="0.00000090"
        iyy="0.00000441"
        iyz="0.00000000"
        izz="0.00000402" />
    </inertial>
    <visual>
      <origin
        xyz="0 0 0"
        rpy="0 0 0" />
      <geometry>
        <mesh
          filename="package://ymbot_d_description/meshes/Driven_Wheel_Link7.STL" />
      </geometry>
      <material
        name="">
        <color
          rgba="0.792156862745098 0.819607843137255 0.933333333333333 1" />
      </material>
    </visual>
    <collision>
      <origin
        xyz="0 0 0"
        rpy="0 0 0" />
      <geometry>
        <mesh
          filename="package://ymbot_d_description/meshes/Driven_Wheel_Link7.STL" />
      </geometry>
    </collision>
  </link>
  <joint
    name="Driven_Wheel_Joint7"
    type="fixed">
    <origin
      xyz="-0.275 -0.14 0.041"
      rpy="0 0 0" />
    <parent
      link="base_link" />
    <child
      link="Driven_Wheel_Link7" />
    <axis
      xyz="0 0 -1" />
  </joint>
  <link
    name="Driven_Wheel_Link8">
    <inertial>
      <origin
        xyz="0.00000000 0.00000000 0.00000000"
        rpy="0 0 0" />
      <mass
        value="0.02947568" />
      <inertia
        ixx="0.00000426"
        ixy="0.00000000"
        ixz="0.00000000"
        iyy="0.00000426"
        iyz="0.00000000"
        izz="0.00000553" />
    </inertial>
    <visual>
      <origin
        xyz="0 0 0"
        rpy="0 0 0" />
      <geometry>
        <mesh
          filename="package://ymbot_d_description/meshes/Driven_Wheel_Link8.STL" />
      </geometry>
      <material
        name="">
        <color
          rgba="0.792156862745098 0.819607843137255 0.933333333333333 1" />
      </material>
    </visual>
    <collision>
      <origin
        xyz="0 0 0"
        rpy="0 0 0" />
      <geometry>
        <mesh
          filename="package://ymbot_d_description/meshes/Driven_Wheel_Link8.STL" />
      </geometry>
    </collision>
  </link>
  <joint
    name="Driven_Wheel_Joint8"
    type="fixed">
    <origin
      xyz="-0.02 0 -0.039"
      rpy="1.5708 0 0" />
    <parent
      link="Driven_Wheel_Link7" />
    <child
      link="Driven_Wheel_Link8" />
    <axis
      xyz="0 0 -1" />
  </joint>
  <link
    name="Driving_Wheel_Link1">
    <inertial>
      <origin
        xyz="0.00000000 -0.00000624 -0.04307687"
        rpy="0 0 0" />
      <mass
        value="3.02165988" />
      <inertia
        ixx="0.00547783"
        ixy="0.00000000"
        ixz="0.00000000"
        iyy="0.00547792"
        iyz="0.00000111"
        izz="0.00948928" />
    </inertial>
    <visual>
      <origin
        xyz="0 0 0"
        rpy="0 0 0" />
      <geometry>
        <mesh
          filename="package://ymbot_d_description/meshes/Driving_Wheel_Link1.STL" />
      </geometry>
      <material
        name="">
        <color
          rgba="0.69804 0.69804 0.69804 1" />
      </material>
    </visual>
    <collision>
      <origin
        xyz="0 0 0"
        rpy="0 0 0" />
      <geometry>
        <mesh
          filename="package://ymbot_d_description/meshes/Driving_Wheel_Link1.STL" />
      </geometry>
    </collision>
  </link>
  <joint
    name="Driving_Wheel_Joint1"
    type="fixed">
    <origin
      xyz="-0.005 0.18 0.0665"
      rpy="1.5708 0 0" />
    <parent
      link="base_link" />
    <child
      link="Driving_Wheel_Link1" />
    <axis
      xyz="0 0 1" />
  </joint>
  <link
    name="Driving_Wheel_Link2">
    <inertial>
      <origin
        xyz="0.00000000 -0.00000624 0.04307687"
        rpy="0 0 0" />
      <mass
        value="3.02165988" />
      <inertia
        ixx="0.00547783"
        ixy="0.00000000"
        ixz="0.00000000"
        iyy="0.00547792"
        iyz="-0.00000111"
        izz="0.00948928" />
    </inertial>
    <visual>
      <origin
        xyz="0 0 0"
        rpy="0 0 0" />
      <geometry>
        <mesh
          filename="package://ymbot_d_description/meshes/Driving_Wheel_Link2.STL" />
      </geometry>
      <material
        name="">
        <color
          rgba="0.69804 0.69804 0.69804 1" />
      </material>
    </visual>
    <collision>
      <origin
        xyz="0 0 0"
        rpy="0 0 0" />
      <geometry>
        <mesh
          filename="package://ymbot_d_description/meshes/Driving_Wheel_Link2.STL" />
      </geometry>
    </collision>
  </link>
  <joint
    name="Driving_Wheel_Joint2"
    type="fixed">
    <origin
      xyz="-0.005 -0.18 0.0665"
      rpy="1.5708 0 0" />
    <parent
      link="base_link" />
    <child
      link="Driving_Wheel_Link2" />
    <axis
      xyz="0 0 -1" />
  </joint>
</robot>
